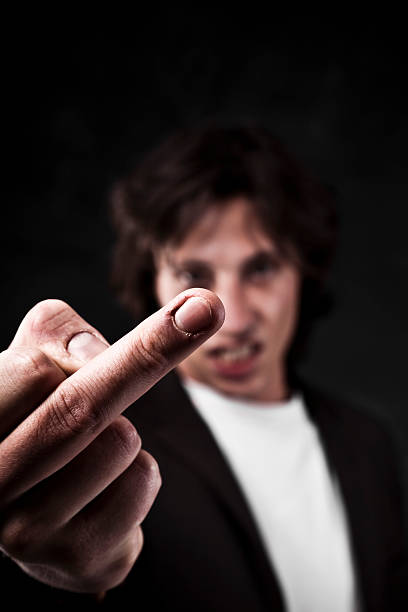insulting_gesture: (0, 287, 228, 612)
